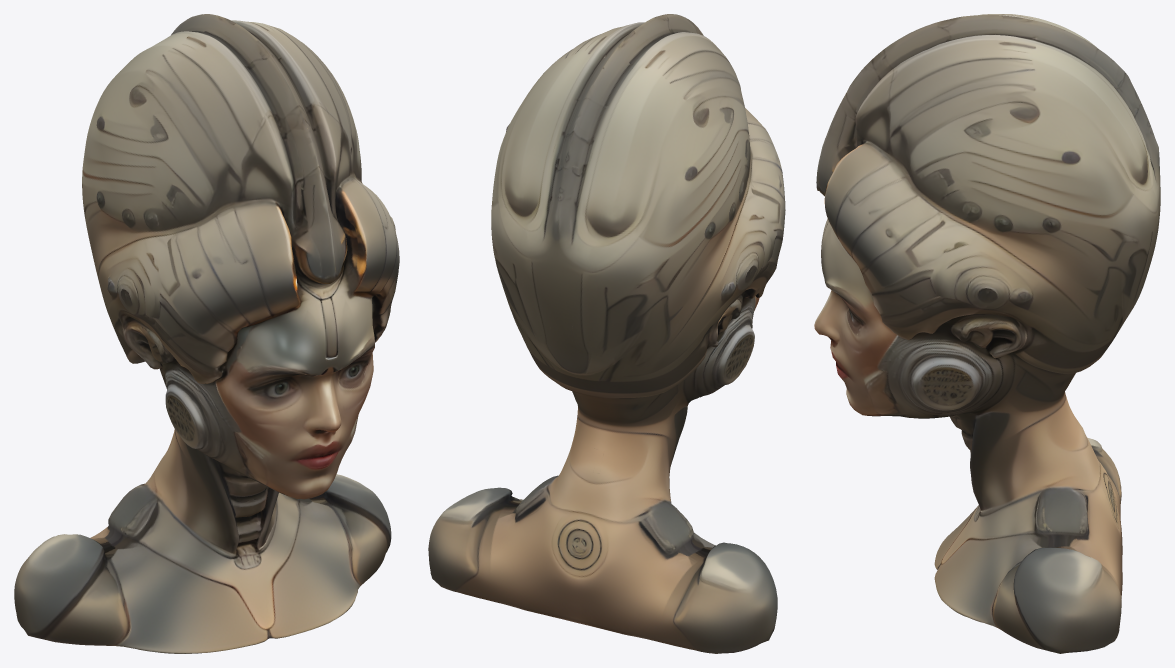
File: torre.glb
3 renders of one model, left to right at view 1: azimuth 30°, elevation 25°; view 2: azimuth 150°, elevation 25°; view 3: azimuth 270°, elevation 25°, orthographic. The views are drawn at different scales.
Parts seen in each view (by area): view 1: model; view 2: model; view 3: model.
Part boxes in pixels (x1,y1,x2,y2): model: (14, 14, 399, 653); model: (428, 14, 785, 653); model: (814, 14, 1160, 653).
Size of the model in its own units: 1.19 by 1.91 by 1.07.
Materials: 1 (1 with a texture image).
